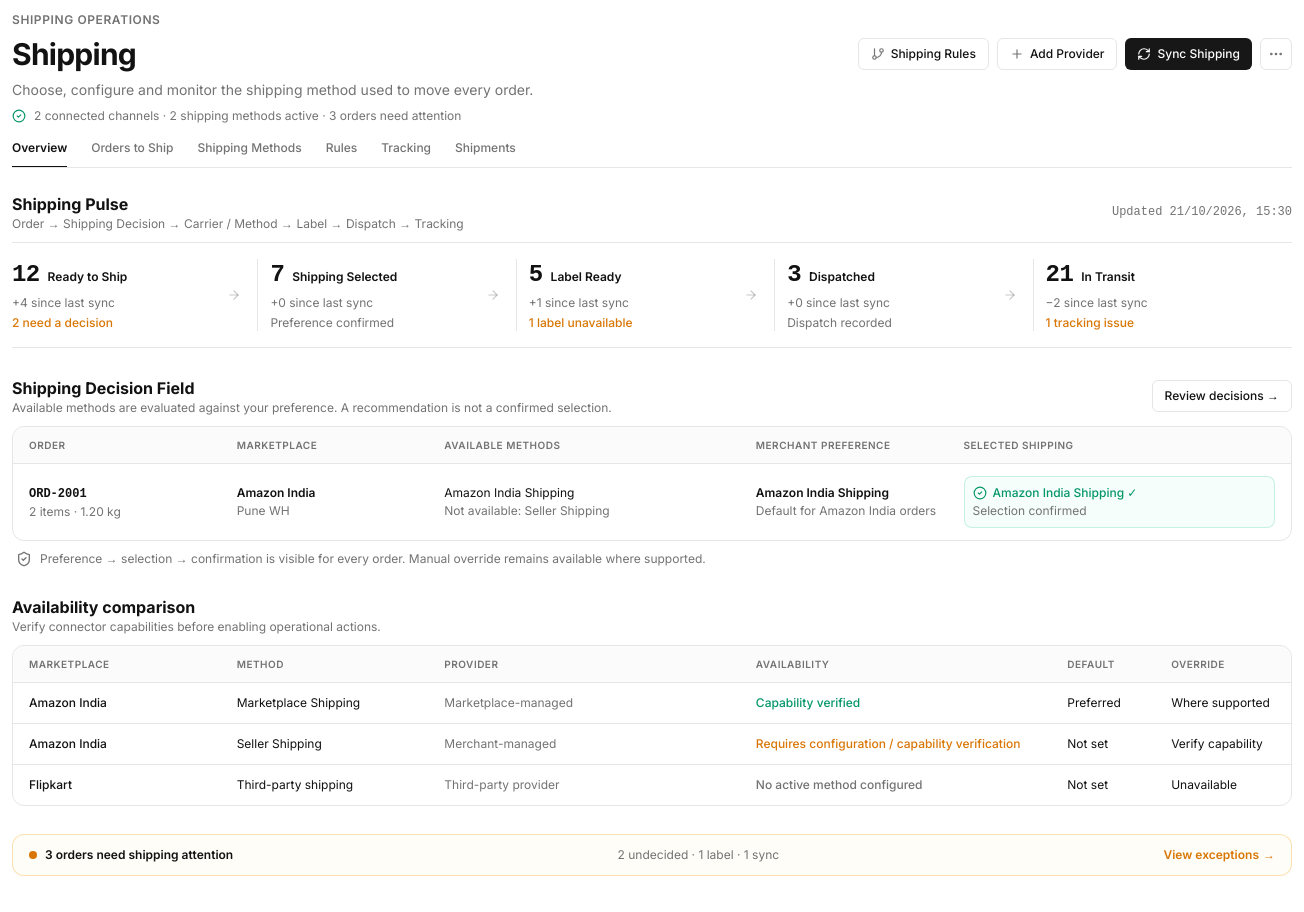
Scenario: sync shipping › a failed sync is explained
Step 1. Click the button "Sync Shipping" → (1189, 54), box [1126,38,1252,70]
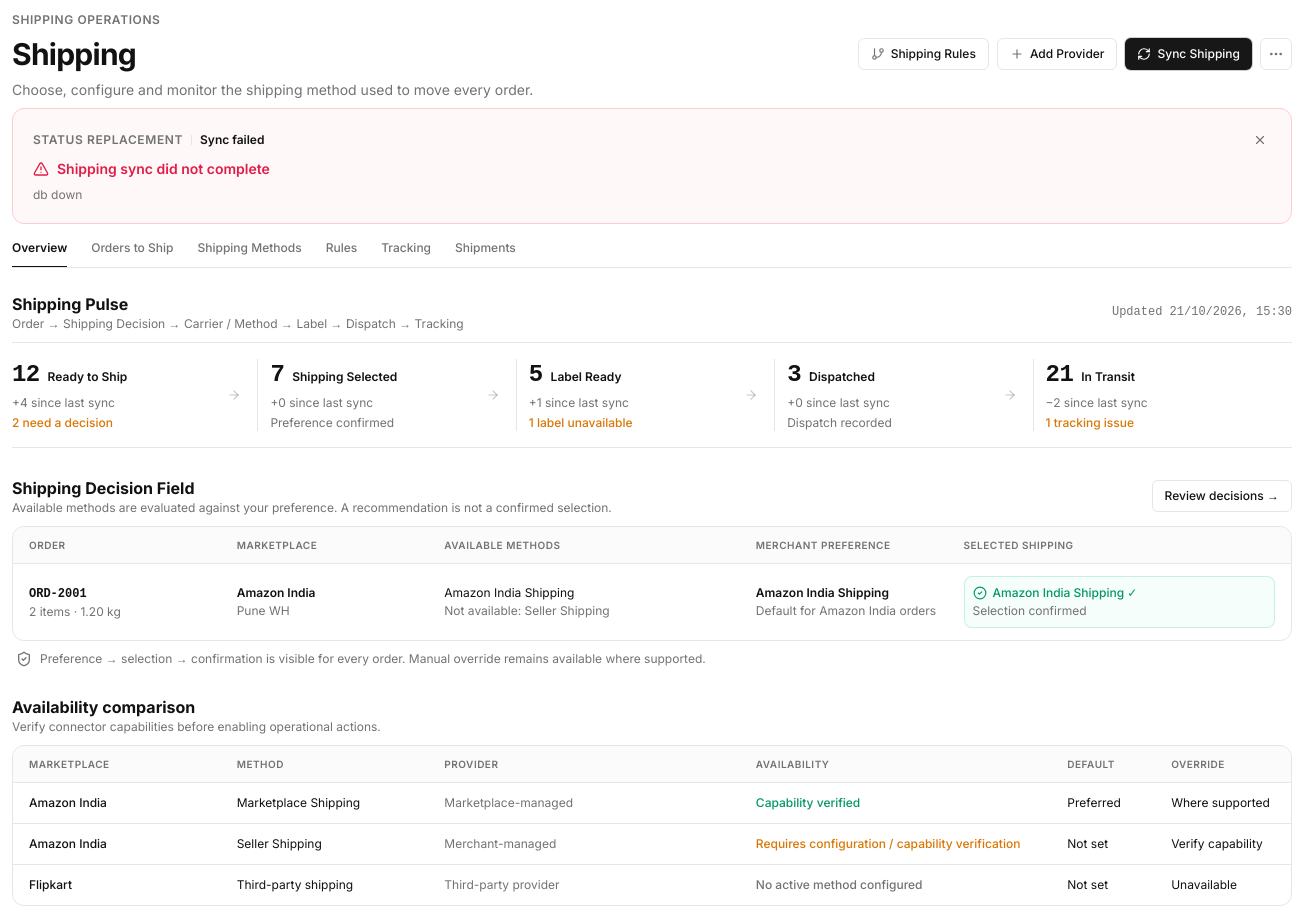
Expected: the text "Shipping sync did not complete" is shown, [57,159,270,179]
Expected: the text "db down" is shown, [33,187,82,202]
